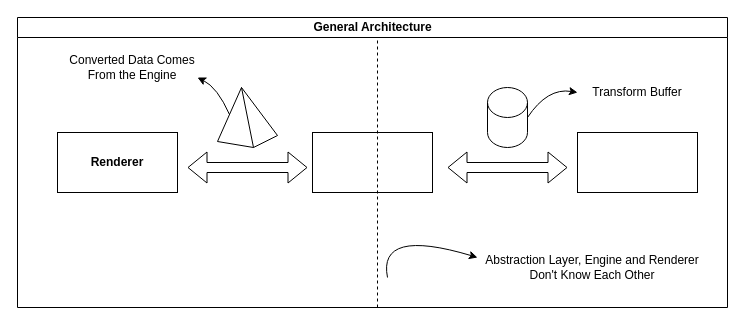
Image size: 745x326. Some labels were removed from this diagram. Each missing label, with the centre of its shape:
"Engine" belongs at point (637, 162).
"Program" belongs at point (372, 162).
